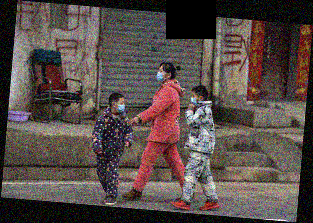with_mask: (115, 99, 126, 114), (156, 67, 166, 83), (189, 93, 199, 107)
